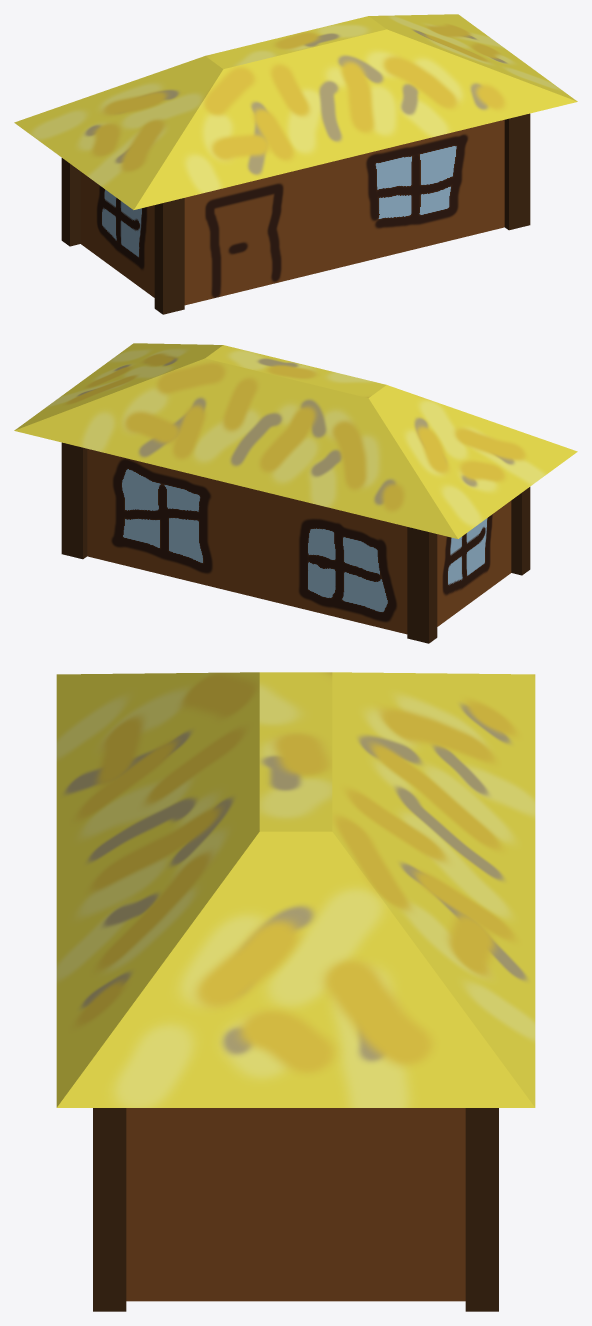
File: house-big.glb
The picture shows the model from 3 angles, top to bottom: view 1: azimuth 30°, elevation 25°; view 2: azimuth 150°, elevation 25°; view 3: azimuth 270°, elevation 25°; orthographic projection. The views are drawn at different scales.
Visible parts, largest first — view 1: BigHouse; view 2: BigHouse; view 3: BigHouse.
Boxes of the visible parts, x1,y1,x2,y2 form: BigHouse: (14,14,577,314); BigHouse: (14,343,577,643); BigHouse: (56,672,535,1311).
Size of the model in its own units: 7.71 by 3.15 by 3.6.
Materials: 1 (1 with a texture image).
